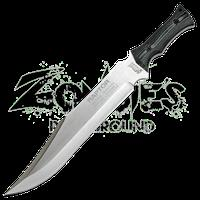knife: (1, 11, 192, 198)
